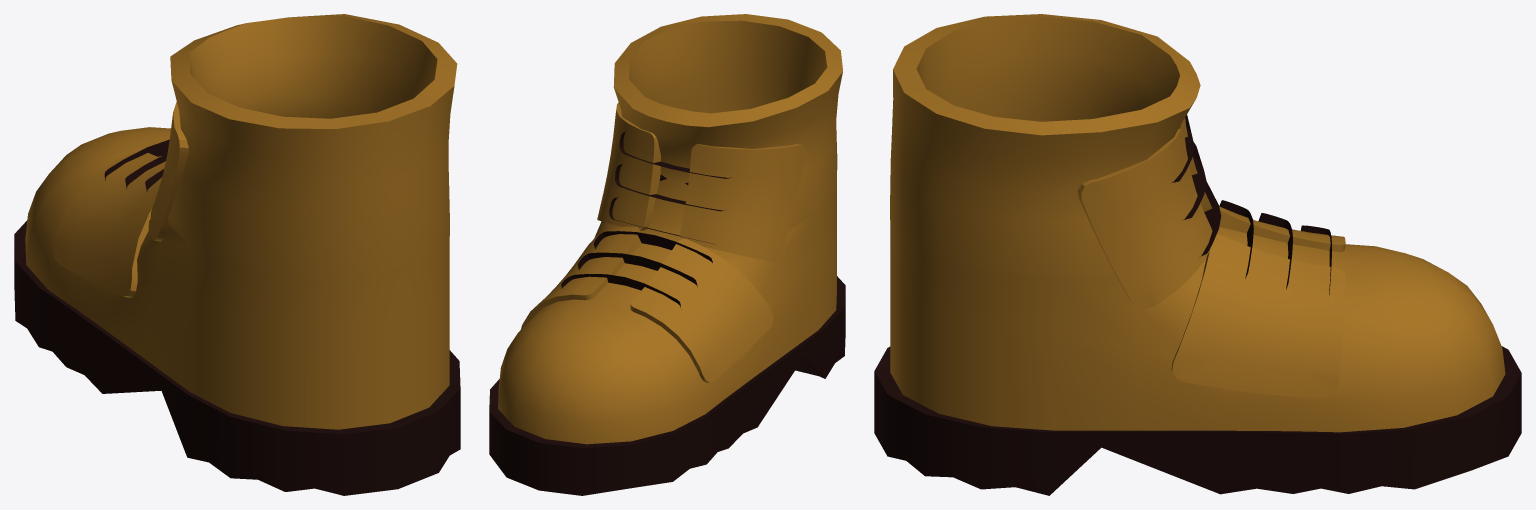
File: Hiking Boot.gltf
3 views of the same model, side by side, from view 1: azimuth 30°, elevation 25°; view 2: azimuth 150°, elevation 25°; view 3: azimuth 270°, elevation 25° (orthographic). The views are drawn at different scales.
Parts seen in each view (by area): view 1: Sphere.366, Sphere.364, Sphere.365, Sphere.367, Cube.6119; view 2: Sphere.366, Sphere.364, Sphere.367, Sphere.365, Cube.6119; view 3: Sphere.366, Sphere.364, Sphere.365, Sphere.367, Cube.6119.
Part boxes in pixels (left/top/right/bottom): Sphere.366: left=25, top=14, right=457, bottom=429; Sphere.364: left=14, top=220, right=460, bottom=495; Sphere.365: left=53, top=151, right=165, bottom=297; Sphere.367: left=149, top=102, right=188, bottom=241; Cube.6119: left=104, top=139, right=169, bottom=191; Sphere.366: left=498, top=14, right=842, bottom=444; Sphere.364: left=489, top=276, right=845, bottom=495; Sphere.367: left=597, top=102, right=805, bottom=261; Sphere.365: left=521, top=226, right=773, bottom=382; Cube.6119: left=561, top=132, right=731, bottom=309; Sphere.366: left=890, top=14, right=1505, bottom=432; Sphere.364: left=874, top=346, right=1521, bottom=495; Sphere.365: left=1171, top=206, right=1345, bottom=398; Sphere.367: left=1077, top=118, right=1212, bottom=308; Cube.6119: left=1171, top=115, right=1331, bottom=295.
Bounding box in the file's own units: 0.9088 × 1.28 × 2.04.
